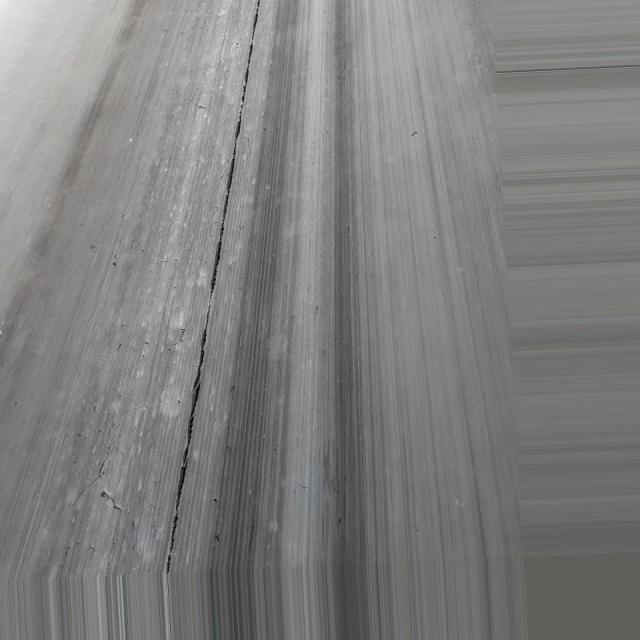Tear: (157, 0, 266, 577)
